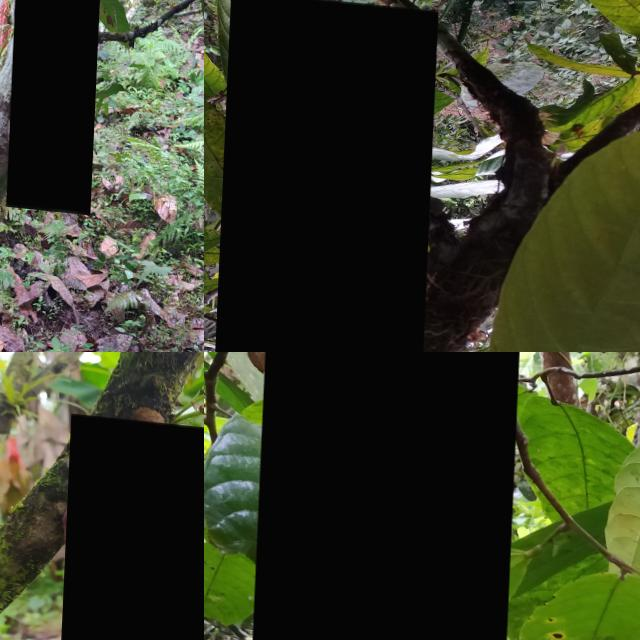Fitoftora: (257, 352, 526, 640), (220, 0, 440, 352), (9, 0, 105, 205)
Sana: (57, 410, 204, 640)
